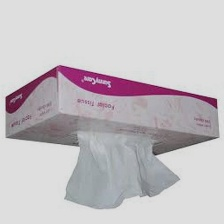book: (0, 60, 224, 163)
tissue: (59, 125, 185, 214)
